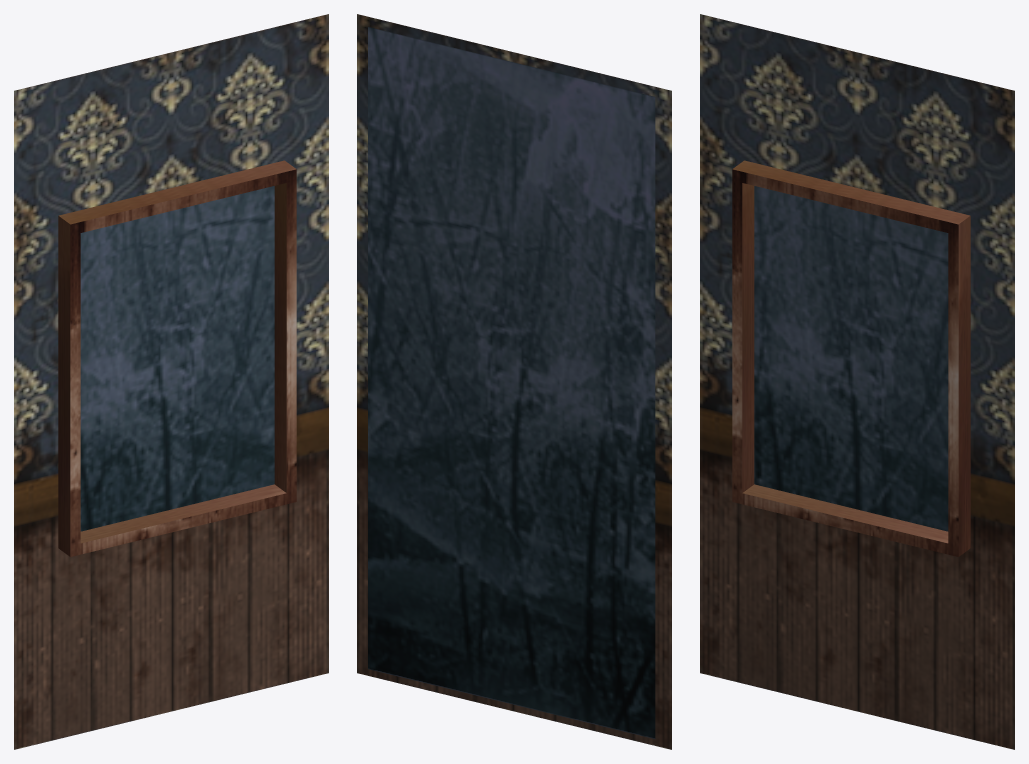
Rendered from wall_blue_003.obj.
3 renders of one model, left to right at view 1: azimuth 30°, elevation 25°; view 2: azimuth 150°, elevation 25°; view 3: azimuth 330°, elevation 25°, orthographic.
Visible parts, largest first — view 1: Wall_Window_3x1.5_01; view 2: Wall_Window_3x1.5_01; view 3: Wall_Window_3x1.5_01.
Part boxes in pixels (x1,y1,x2,y2): Wall_Window_3x1.5_01: (14, 14, 328, 749); Wall_Window_3x1.5_01: (357, 14, 671, 749); Wall_Window_3x1.5_01: (700, 14, 1014, 749).
Bounding box in the file's own units: 1.5 × 3 × 0.1162.
3 materials, 3 textured.
